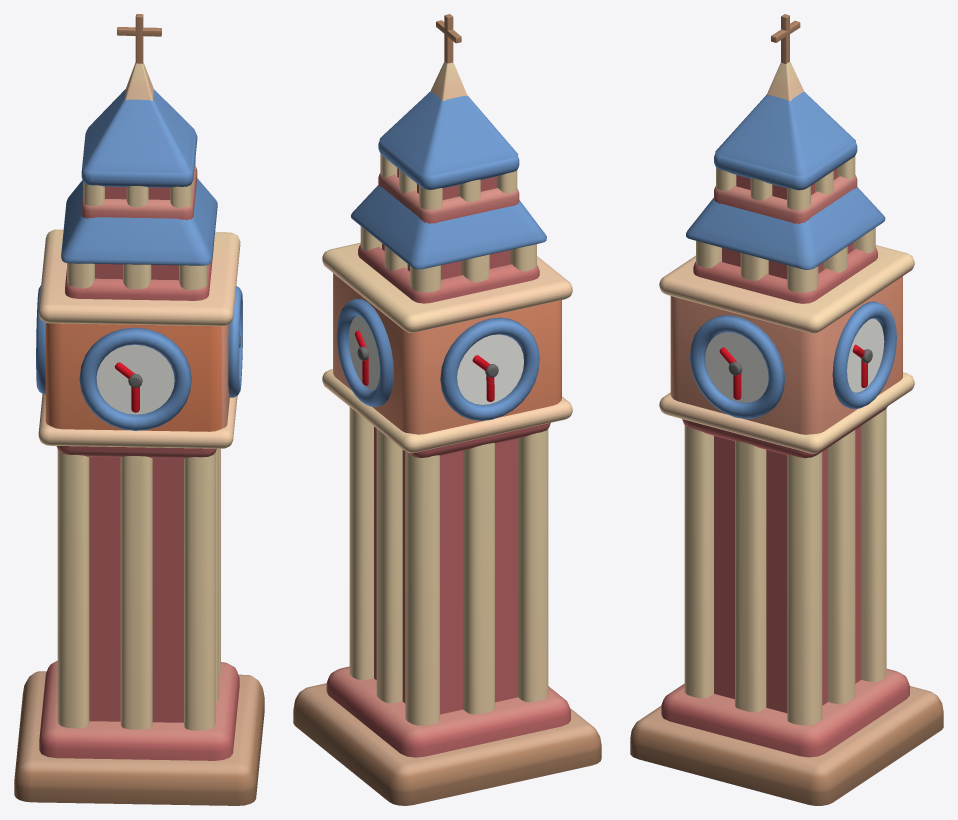
The model's file is BigBen (1).fbx.
3 renders of one model, left to right at view 1: azimuth 30°, elevation 25°; view 2: azimuth 150°, elevation 25°; view 3: azimuth 270°, elevation 25°, orthographic. The views are drawn at different scales.
Parts seen in each view (by area): view 1: Bigben; view 2: Bigben; view 3: Bigben.
Boxes of the visible parts, box(x1,y1,x2,y2) form: Bigben: box(14, 14, 264, 805); Bigben: box(293, 14, 601, 805); Bigben: box(630, 14, 943, 805).
Bounding box in the file's own units: 556 × 1416 × 556.
